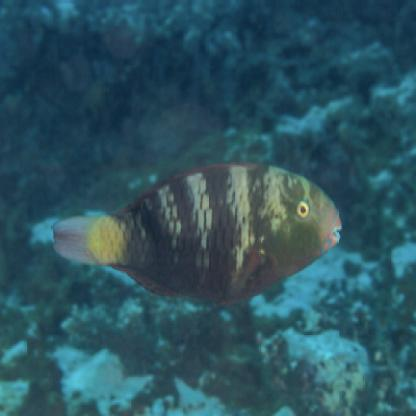Scaridae -Parrotfishes-: (50, 159, 347, 310)
